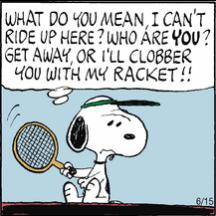snoopy: (12, 94, 160, 204)
